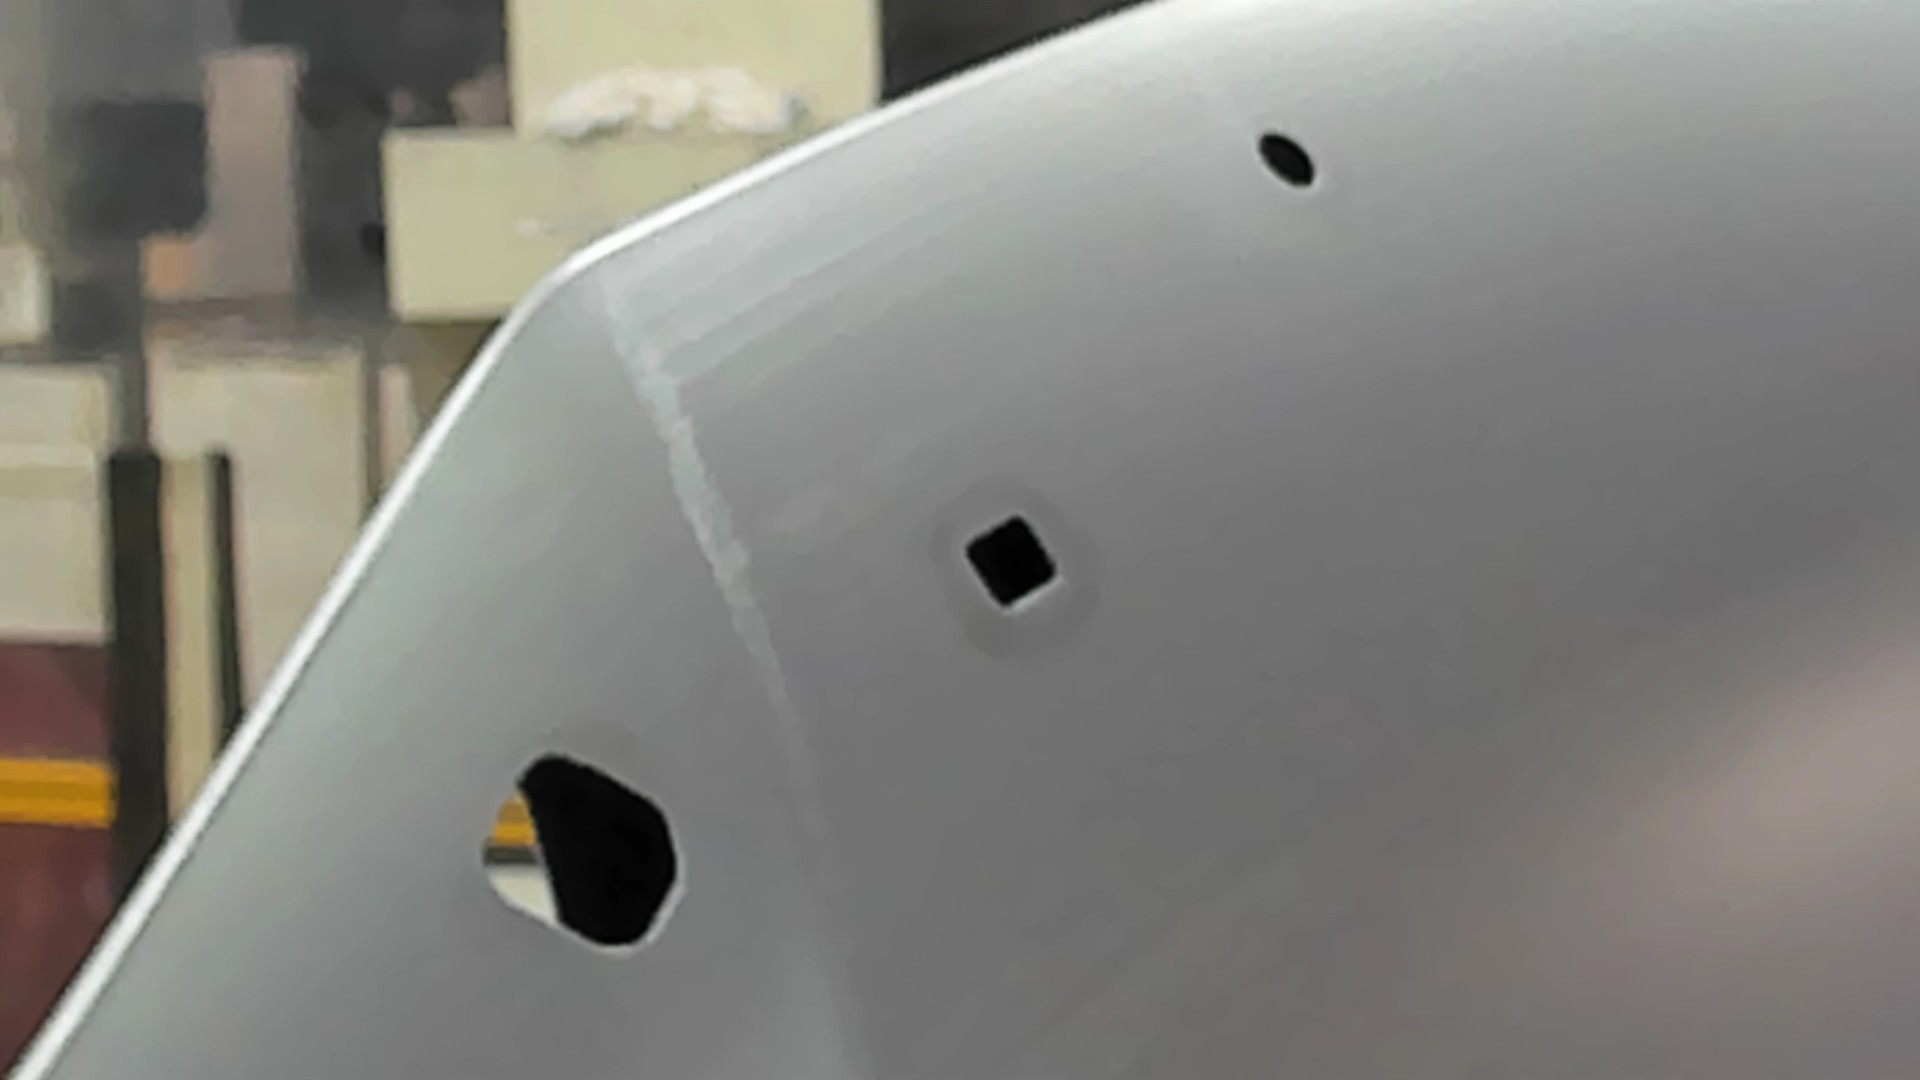capo: (1069, 196, 1920, 1080)
chico: (1255, 124, 1320, 191)
grande: (477, 746, 688, 963)
mediano: (956, 509, 1064, 613)
